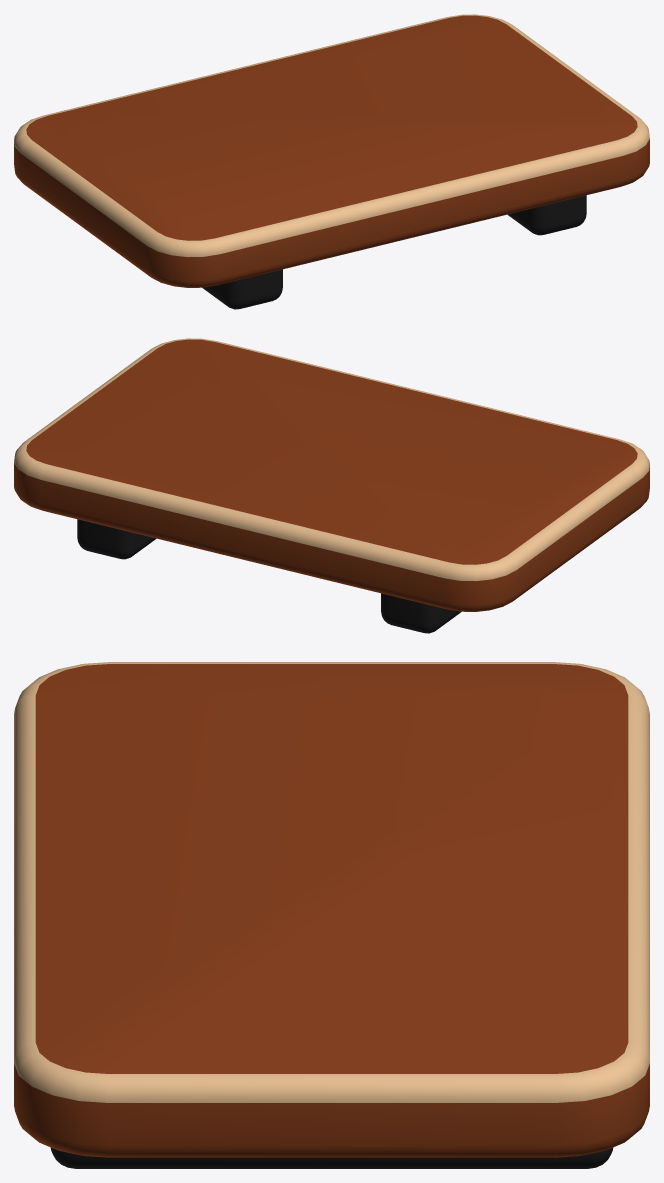
File: kalamarTabak.fbx
3 views of the same model, one above another, from view 1: azimuth 30°, elevation 25°; view 2: azimuth 150°, elevation 25°; view 3: azimuth 270°, elevation 25° (orthographic). The views are drawn at different scales.
Visible parts, largest first — view 1: kalamarTabak; view 2: kalamarTabak; view 3: kalamarTabak.
Part boxes in pixels (left/top/right/bottom): kalamarTabak: left=14, top=14, right=649, bottom=309; kalamarTabak: left=14, top=338, right=649, bottom=633; kalamarTabak: left=14, top=662, right=649, bottom=1168.
Bounding box in the file's own units: 103 × 17.03 × 64.34.
